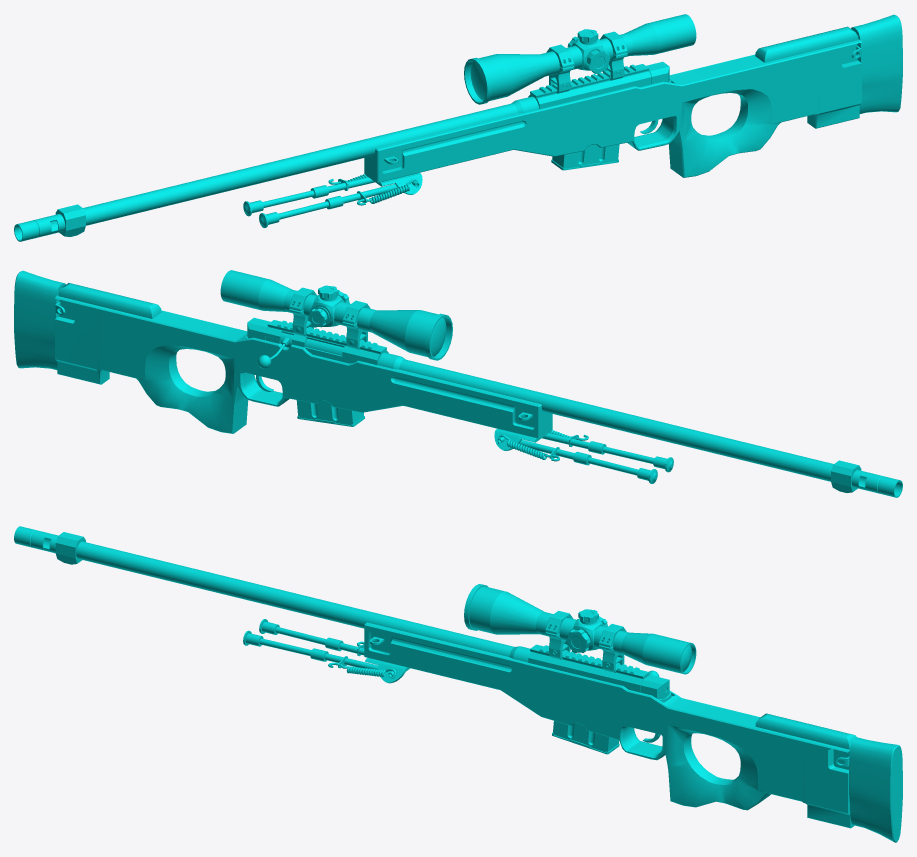
The model's file is AWP_Model_FBX.fbx.
3 renders of one model, top to bottom at view 1: azimuth 30°, elevation 25°; view 2: azimuth 150°, elevation 25°; view 3: azimuth 330°, elevation 25°, orthographic.
Visible parts, largest first — view 1: Main_Body, Barrel, Scope, Shoulder_Rest, Face_Rest, Chamber, Magazine, Left_Stand, Right_Stand, Barrel_Tip, Scope_Holder_Front, Scope_Holder_Back (+3 smaller); view 2: Main_Body, Barrel, Scope, Shoulder_Rest, Face_Rest, Magazine, Chamber, Right_Stand, Left_Stand, Barrel_Tip, Scope_Holder_Front, Scope_Holder_Back (+6 smaller); view 3: Main_Body, Barrel, Scope, Shoulder_Rest, Face_Rest, Chamber, Magazine, Left_Stand, Right_Stand, Scope_Holder_Back, Barrel_Tip, Scope_Holder_Front (+1 smaller).
Boxes of the visible parts, bbox=[...] form: Main_Body: bbox=[364, 39, 861, 182]; Barrel: bbox=[83, 96, 539, 225]; Scope: bbox=[464, 14, 696, 104]; Shoulder_Rest: bbox=[851, 14, 902, 113]; Face_Rest: bbox=[755, 26, 858, 62]; Chamber: bbox=[528, 71, 651, 109]; Magazine: bbox=[551, 144, 619, 170]; Left_Stand: bbox=[259, 184, 397, 227]; Right_Stand: bbox=[243, 177, 374, 216]; Barrel_Tip: bbox=[14, 214, 65, 241]; Scope_Holder_Front: bbox=[546, 44, 574, 93]; Scope_Holder_Back: bbox=[600, 31, 627, 80]; Main_Body: bbox=[55, 295, 552, 438]; Barrel: bbox=[377, 352, 833, 481]; Scope: bbox=[220, 270, 452, 360]; Shoulder_Rest: bbox=[14, 270, 65, 369]; Face_Rest: bbox=[58, 283, 161, 318]; Magazine: bbox=[296, 400, 364, 426]; Chamber: bbox=[265, 327, 388, 365]; Right_Stand: bbox=[519, 440, 657, 483]; Left_Stand: bbox=[542, 433, 673, 472]; Barrel_Tip: bbox=[851, 470, 902, 497]; Scope_Holder_Front: bbox=[342, 300, 370, 349]; Scope_Holder_Back: bbox=[289, 287, 316, 336]; Main_Body: bbox=[364, 622, 854, 828]; Barrel: bbox=[76, 541, 530, 662]; Scope: bbox=[464, 584, 696, 674]; Shoulder_Rest: bbox=[849, 737, 902, 842]; Face_Rest: bbox=[755, 713, 856, 749]; Chamber: bbox=[528, 652, 649, 692]; Magazine: bbox=[552, 721, 619, 754]; Left_Stand: bbox=[243, 630, 402, 677]; Right_Stand: bbox=[259, 619, 364, 655]; Scope_Holder_Back: bbox=[599, 624, 626, 672]; Barrel_Tip: bbox=[14, 526, 58, 553]; Scope_Holder_Front: bbox=[545, 610, 573, 659].
Bounding box in the file's own units: 129 × 22.93 × 10.37.
